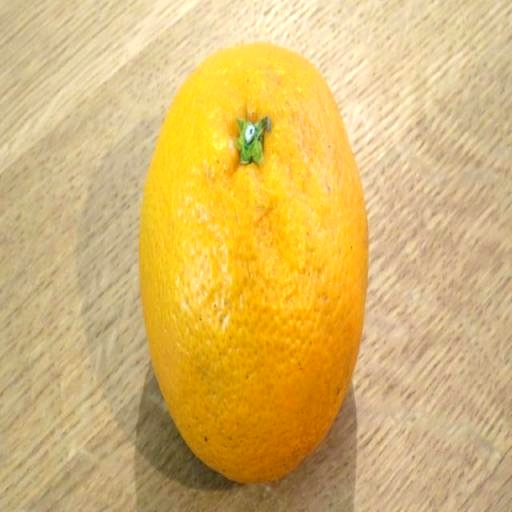fruit: (140, 44, 367, 481)
